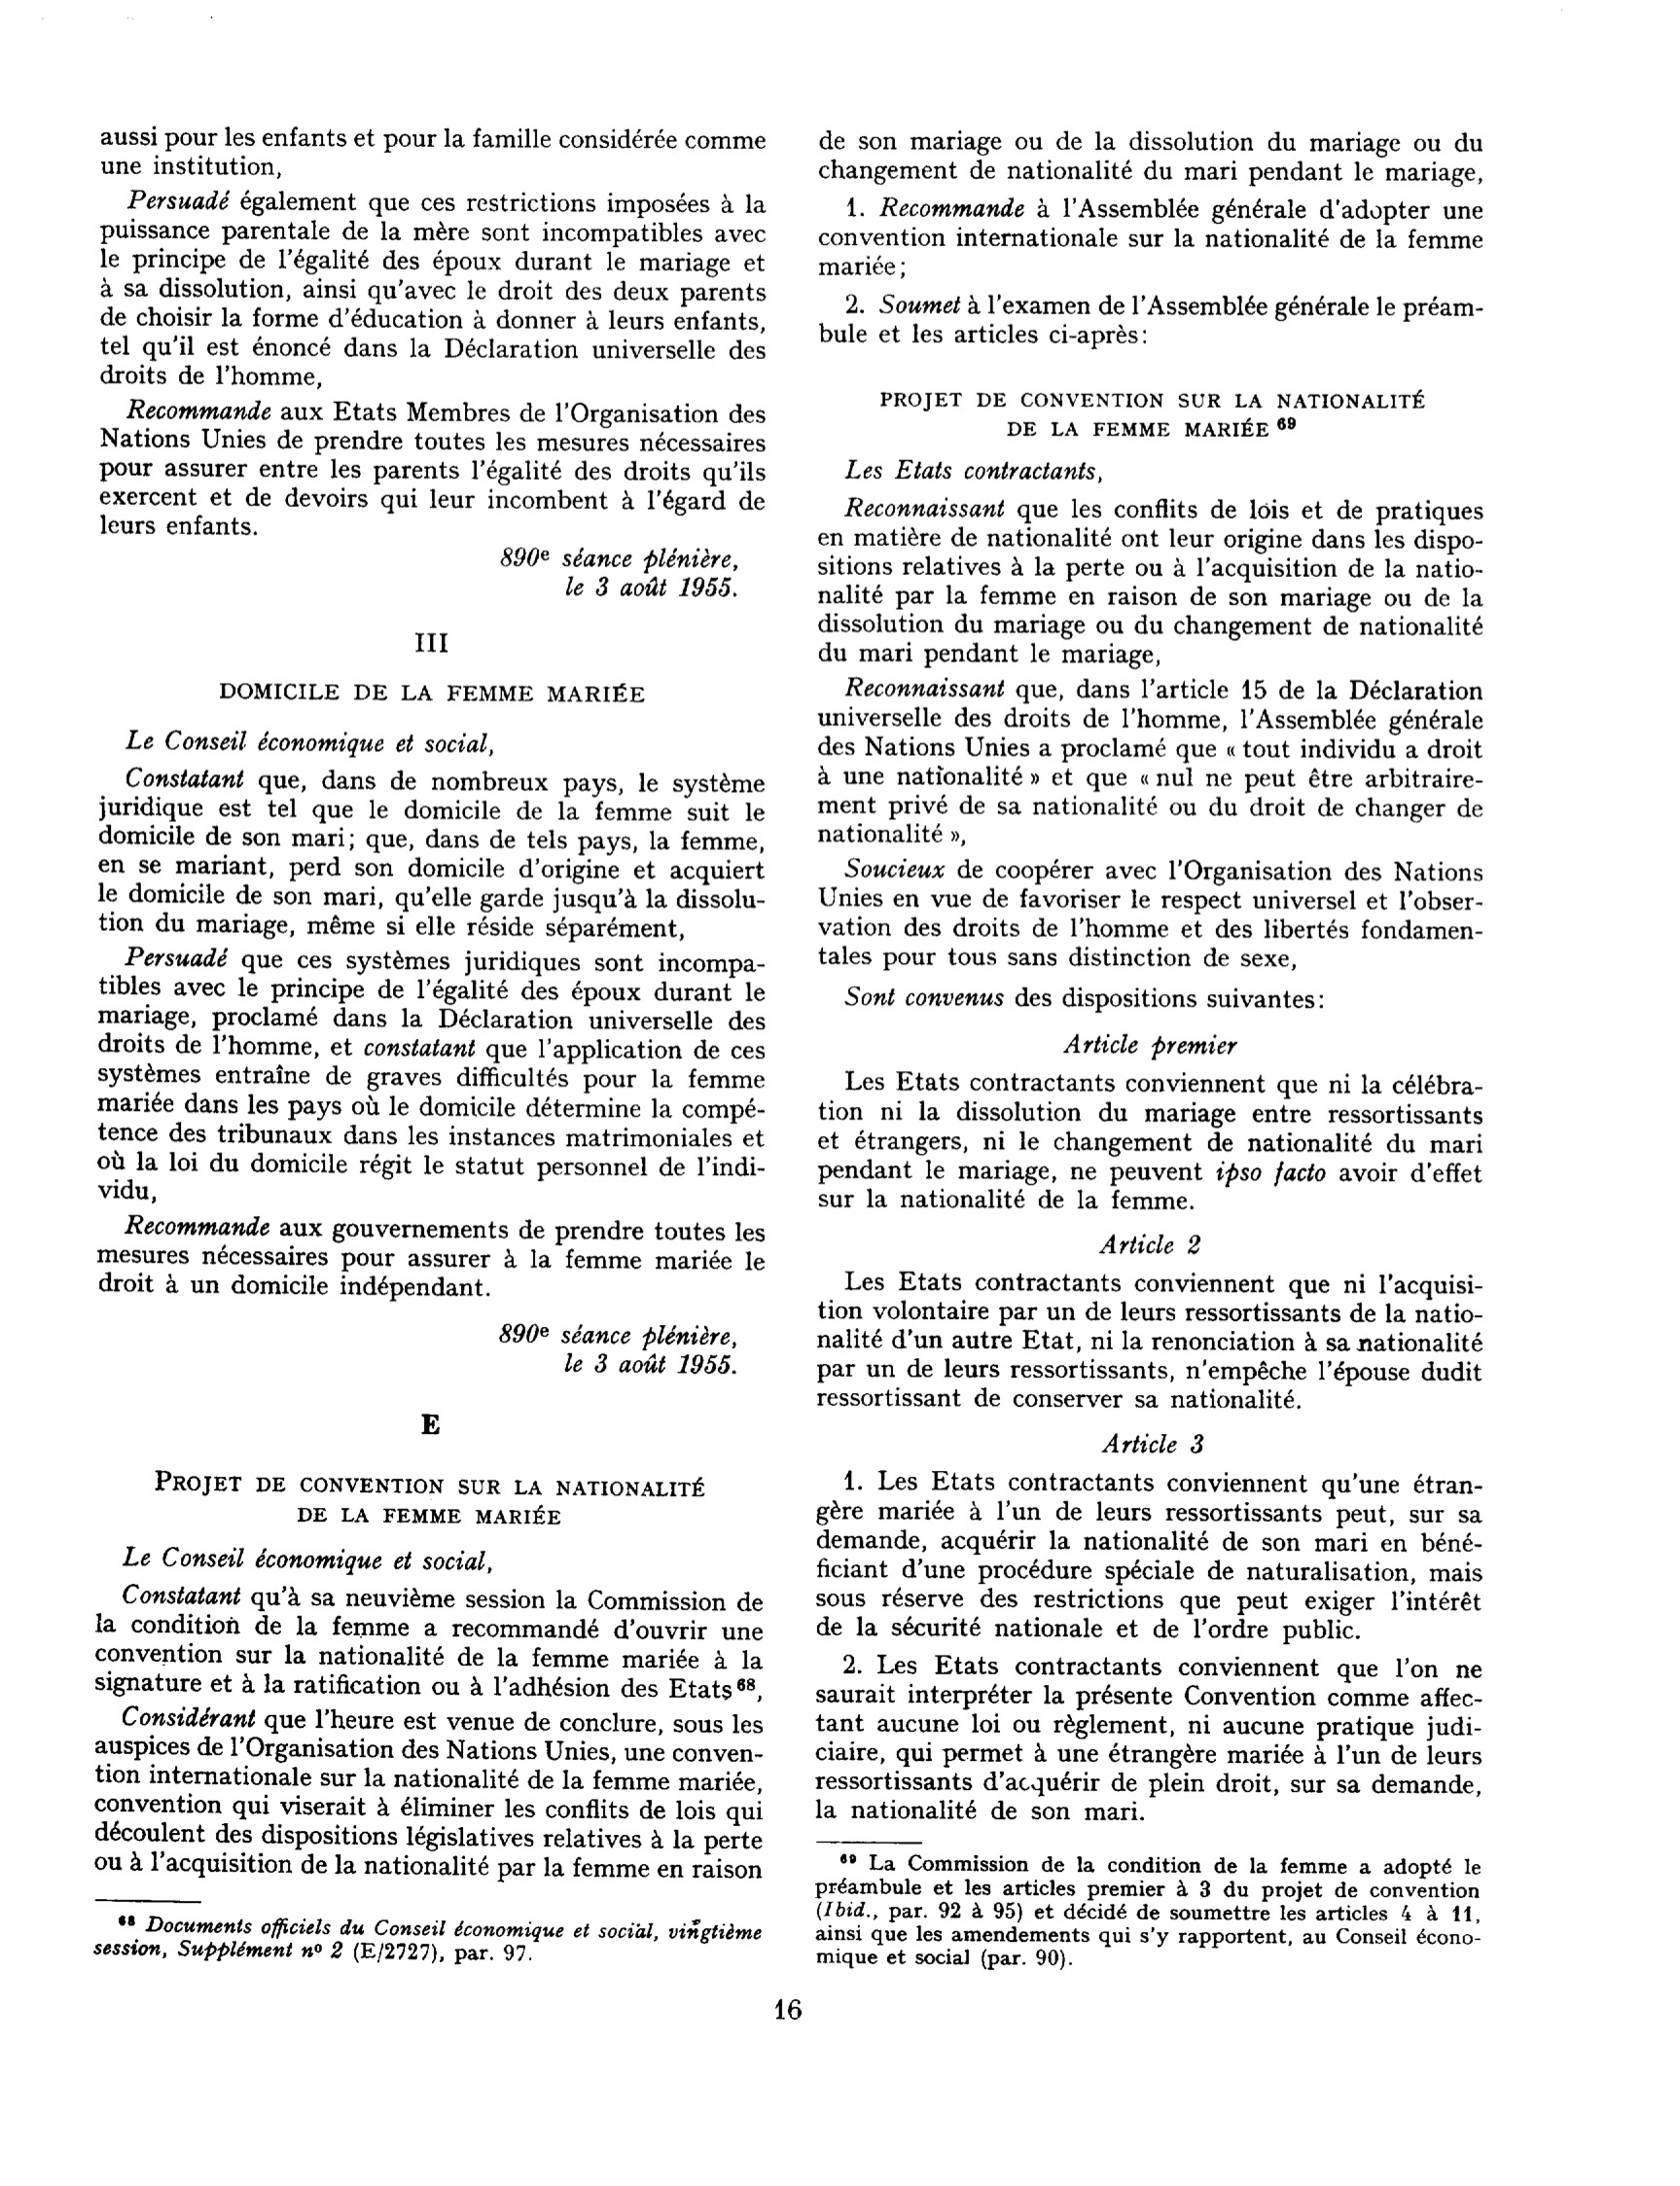MainZone-Continued: (808, 119, 1491, 191), (91, 118, 773, 184)
MainZone-Date: (562, 1345, 743, 1384), (559, 574, 742, 602)
MainZone-Head: (869, 381, 1442, 449), (142, 1463, 714, 1530), (200, 671, 660, 710), (1055, 1025, 1244, 1065), (1092, 1424, 1215, 1463), (1091, 1226, 1210, 1265), (398, 625, 458, 658), (414, 1406, 443, 1444)
MainZone-ListItem: (810, 1649, 1488, 1828), (810, 1465, 1487, 1644), (811, 191, 1491, 286), (810, 286, 1491, 355)
MainZone-P: (89, 940, 774, 1205), (92, 186, 772, 392), (88, 1702, 769, 1882), (91, 764, 771, 941), (811, 494, 1490, 671), (812, 674, 1490, 851), (93, 393, 774, 546), (813, 1065, 1487, 1218), (811, 1265, 1488, 1416), (812, 853, 1492, 976), (88, 1580, 769, 1701), (91, 1210, 776, 1306), (812, 980, 1358, 1017), (97, 723, 508, 760), (93, 1540, 499, 1577), (828, 453, 1112, 490)
MainZone-Signature: (489, 1314, 746, 1351), (489, 540, 762, 572)
MarginTextZone-Notes: (809, 1846, 1489, 1983), (87, 1909, 769, 1978)
TitlePageZone: (768, 1992, 807, 2033)
